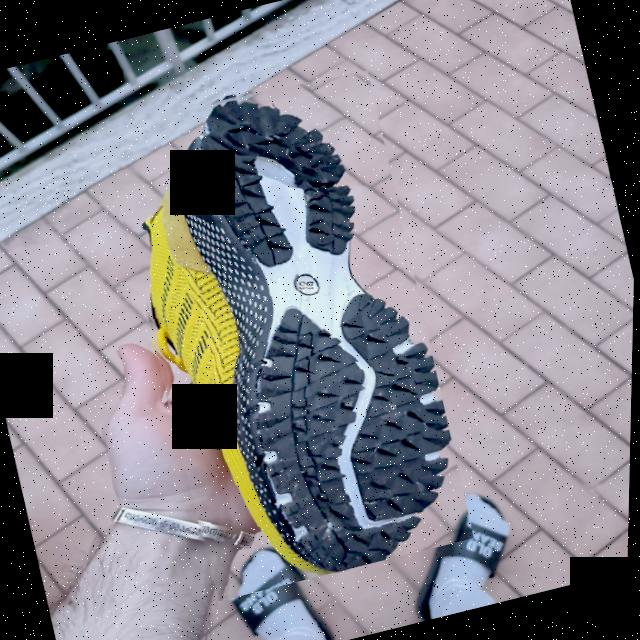shoe: (90, 58, 485, 604)
